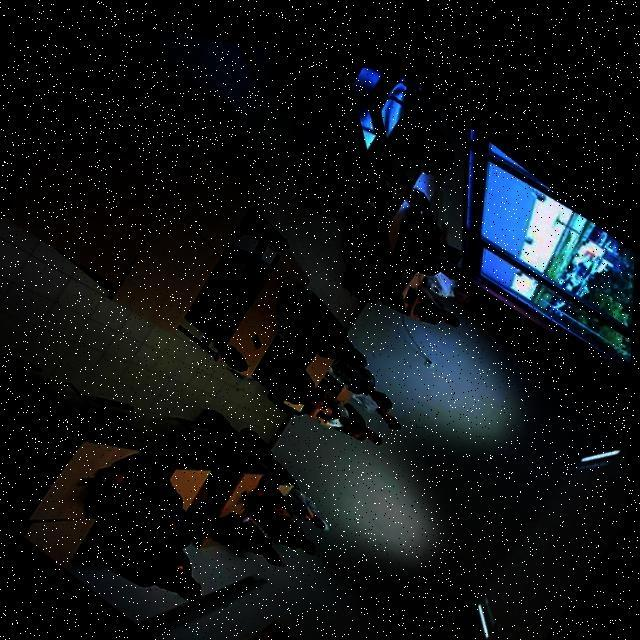phone_use: (74, 420, 233, 593), (254, 256, 372, 387), (387, 172, 451, 285), (401, 271, 457, 324)
